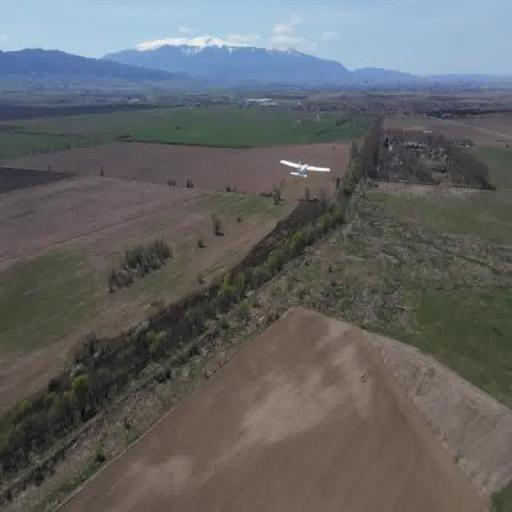uav: (278, 152, 333, 186)
